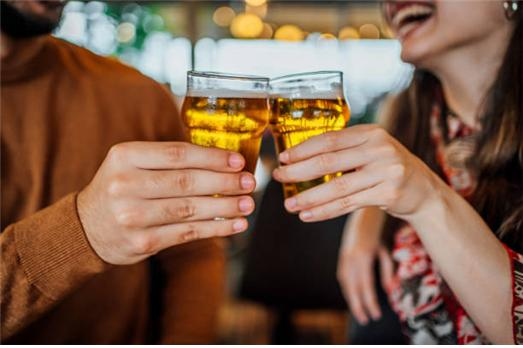alcohol: (271, 71, 350, 210), (180, 68, 270, 190)
